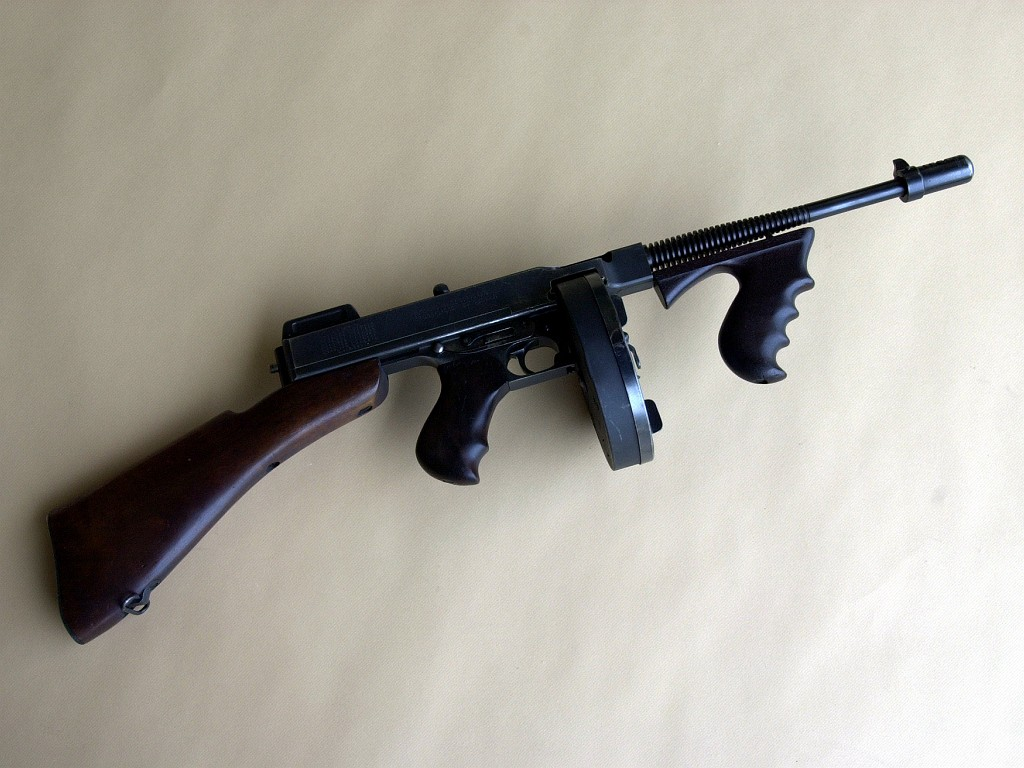rifle: (44, 139, 1007, 637)
